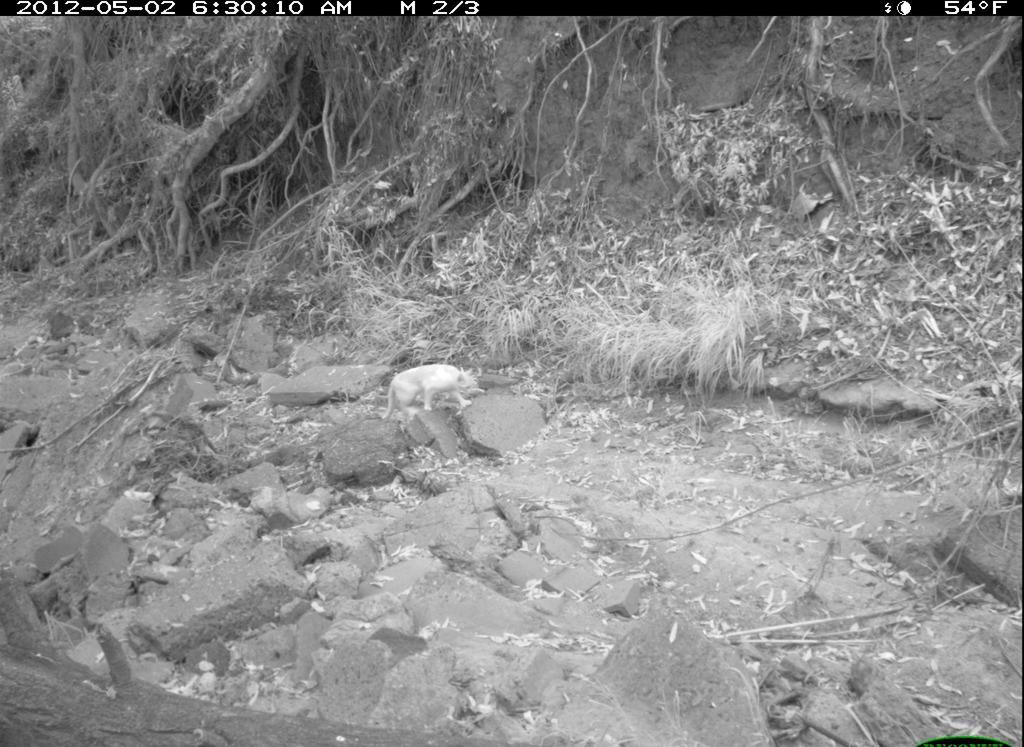cat: (381, 361, 484, 425)
